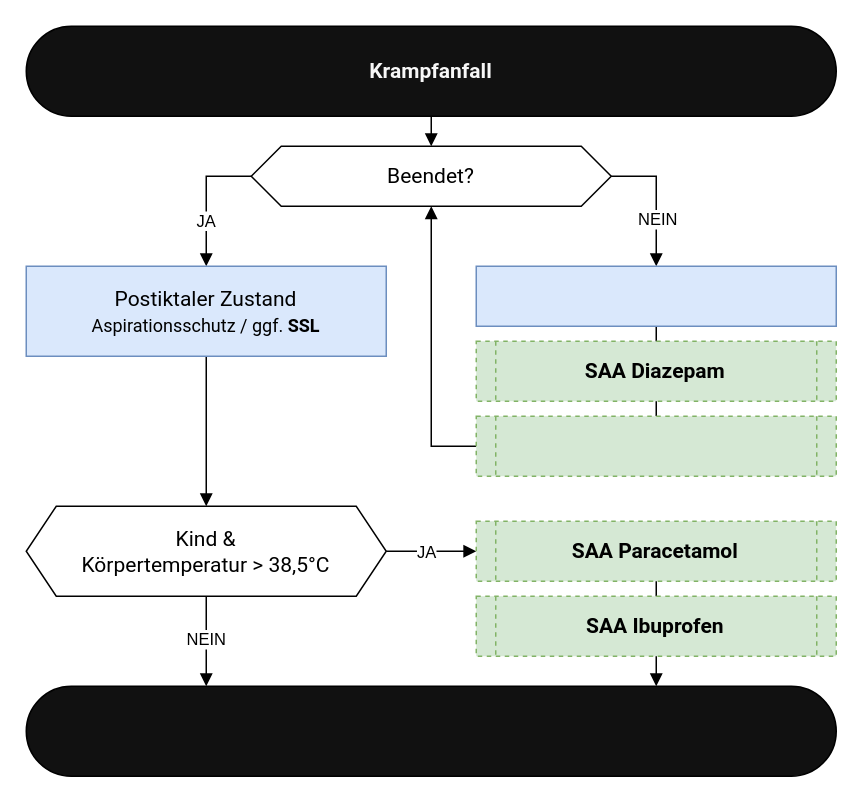
Image size: 863x803. Some labels were removed from this diagram. The shapes that lost their labels are listed below. From the top down, each one's centre as x and y in pixels, then its label:
At [655,295]: "Schutz vor Verletzungen".
At [655,445]: "SAA Midazolam".
At [430,730]: "Weitere Versorgung / Transport ggf. Hypoglykämie".
